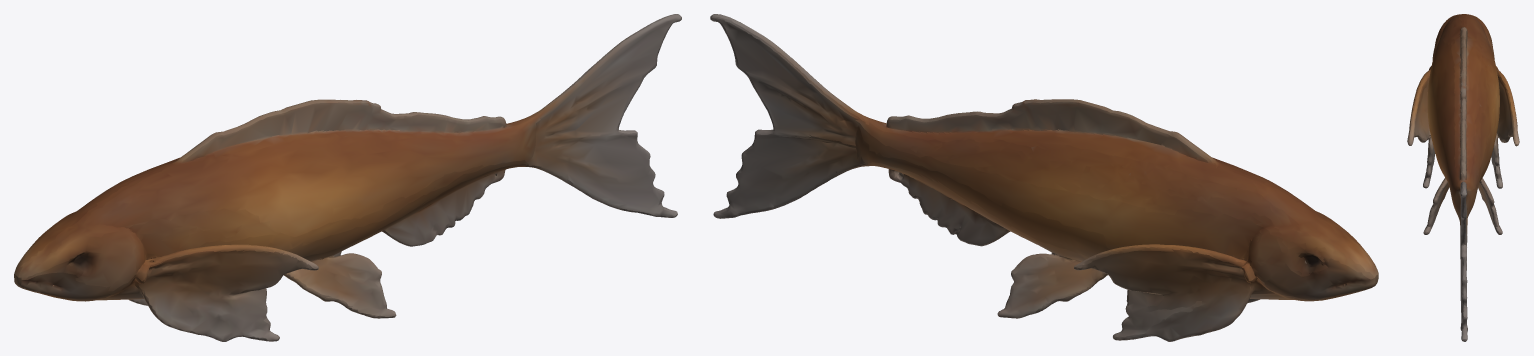
File: fish_hero_turbo.glb
The picture shows the model from 3 angles, left to right: view 1: azimuth 30°, elevation 25°; view 2: azimuth 150°, elevation 25°; view 3: azimuth 270°, elevation 25°; orthographic projection. The views are drawn at different scales.
Visible parts, largest first — view 1: world; view 2: world; view 3: world.
Boxes of the visible parts, box(x1,y1,x2,y2) form: world: box(14, 14, 681, 341); world: box(710, 14, 1378, 341); world: box(1407, 14, 1519, 341).
Size of the model in its own units: 1.6 by 0.4876 by 0.312.
